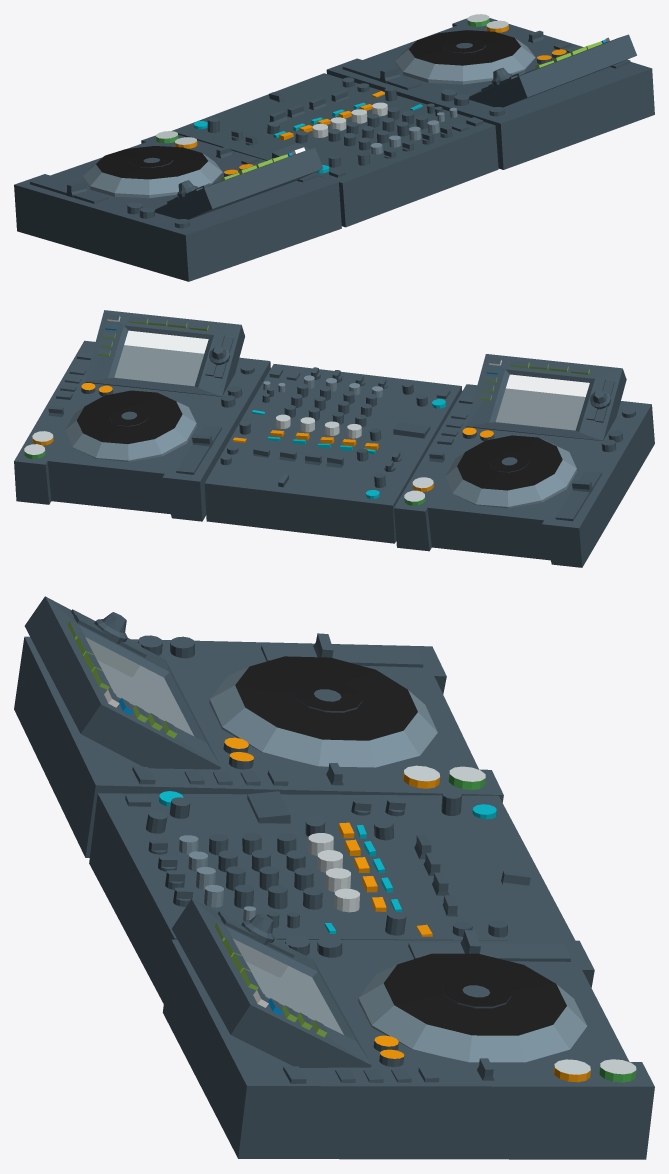
Rendered from Pioneer DJ System.glb.
3 views of the same model, one above another, from view 1: azimuth 30°, elevation 25°; view 2: azimuth 150°, elevation 25°; view 3: azimuth 270°, elevation 25° (orthographic). The views are drawn at different scales.
Parts seen in each view (by area): view 1: group933813175, group1281425499, group77414760; view 2: group933813175, group1281425499, group77414760; view 3: group1281425499, group933813175, group77414760.
Boxes of the visible parts, bbox=[...] form: group933813175: bbox=[14, 131, 341, 281]; group1281425499: bbox=[326, 14, 654, 169]; group77414760: bbox=[172, 73, 498, 227]; group933813175: bbox=[394, 354, 654, 567]; group1281425499: bbox=[14, 310, 270, 521]; group77414760: bbox=[204, 364, 462, 543]; group1281425499: bbox=[162, 898, 654, 1159]; group933813175: bbox=[14, 596, 503, 857]; group77414760: bbox=[89, 789, 575, 1003].
Bounding box in the file's own units: 1.72 × 0.3363 × 0.9999.
